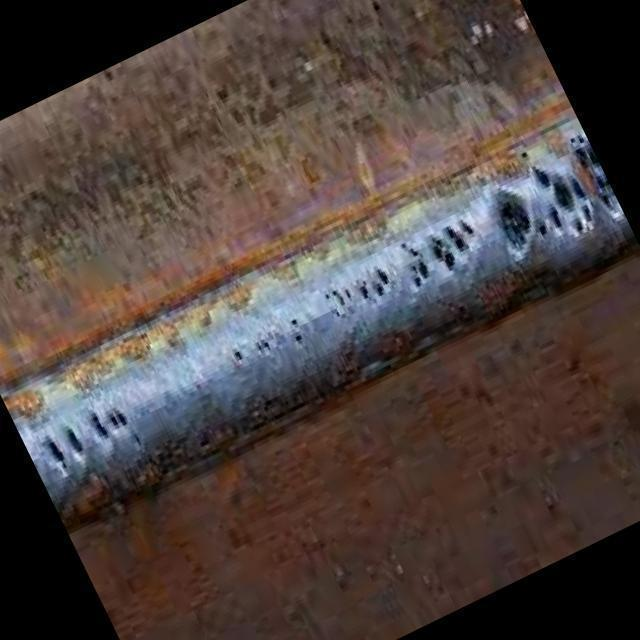defect: (397, 214, 481, 295), (567, 125, 621, 224), (529, 160, 596, 235), (83, 393, 150, 456), (492, 188, 551, 257), (35, 419, 85, 475), (351, 260, 393, 306), (319, 276, 356, 326), (223, 339, 246, 367), (251, 335, 275, 360), (286, 314, 303, 347)
